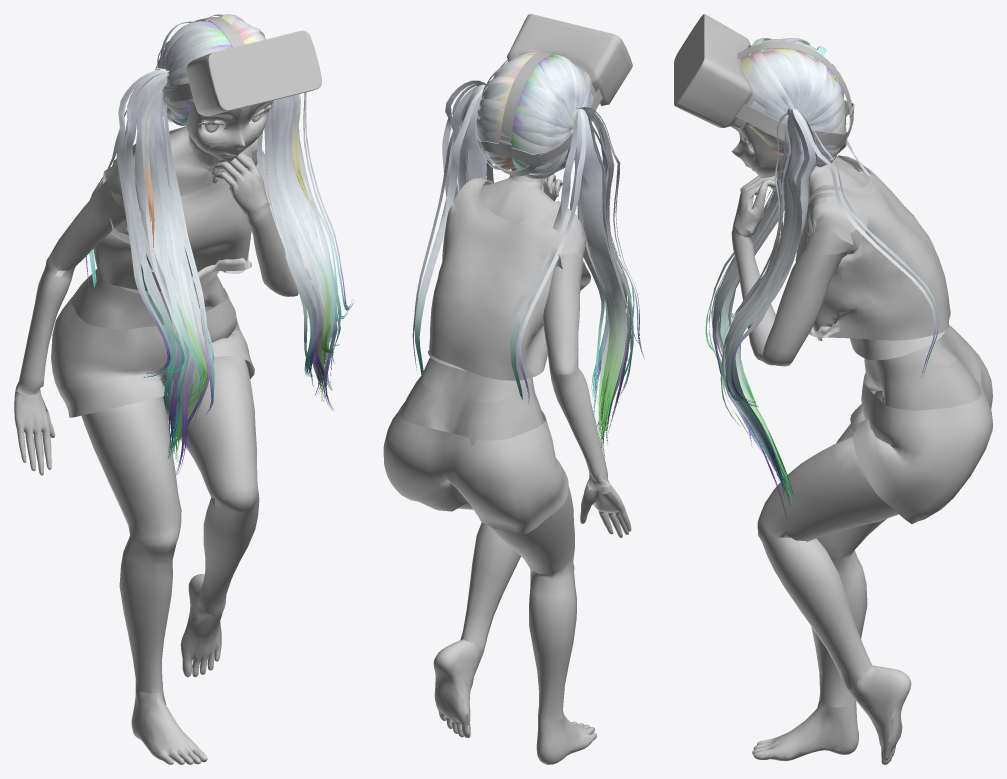
File: pose1.fbx
3 renders of one model, left to right at view 1: azimuth 30°, elevation 25°; view 2: azimuth 150°, elevation 25°; view 3: azimuth 270°, elevation 25°, orthographic. The views are drawn at different scales.
Parts seen in each view (by area): view 1: Body; view 2: Body; view 3: Body.
Boxes of the visible parts, box(x1,y1,x2,y2) form: Body: box(14, 14, 353, 764); Body: box(383, 14, 644, 764); Body: box(674, 14, 992, 764).
Bounding box in the file's own units: 47.33 × 122 × 47.65.
